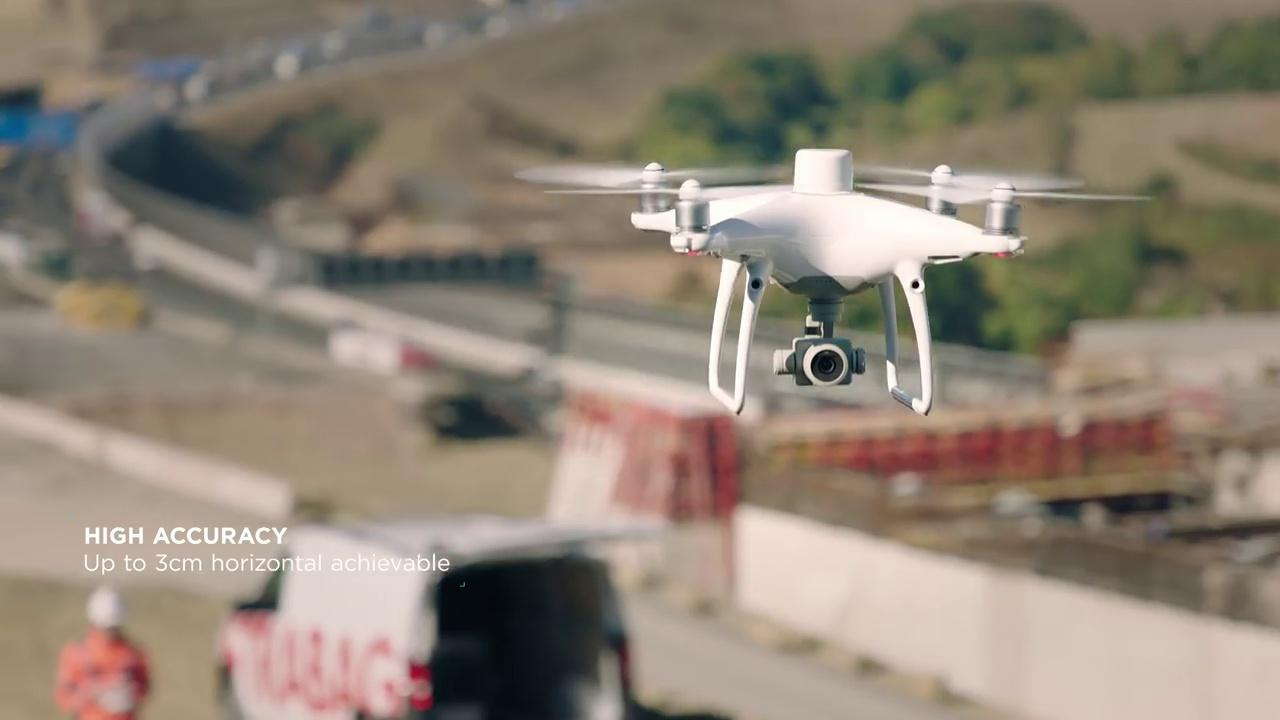drone: (506, 143, 1164, 424)
